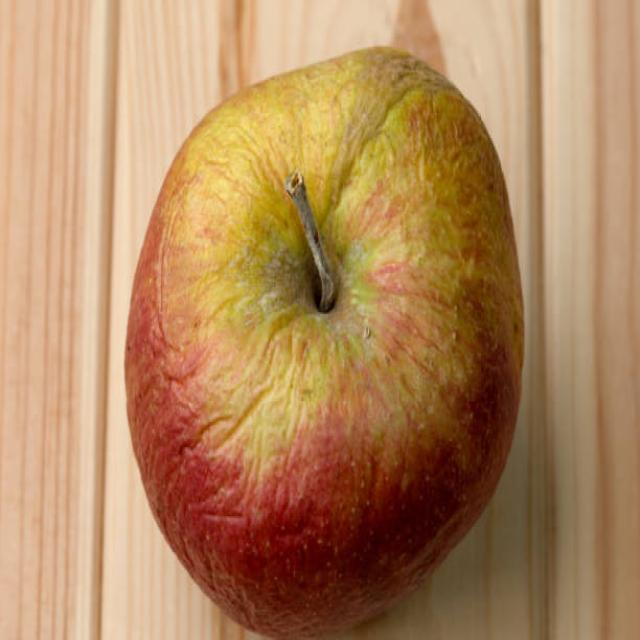overripe: (120, 43, 525, 640)
